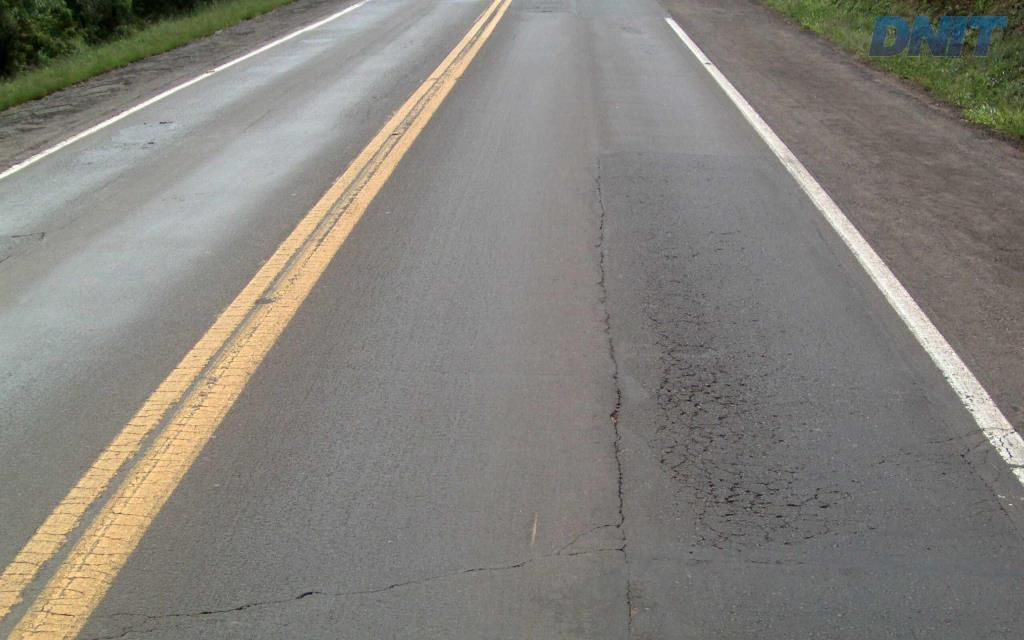crack: (655, 339, 720, 421), (694, 458, 773, 518), (608, 387, 625, 528)
